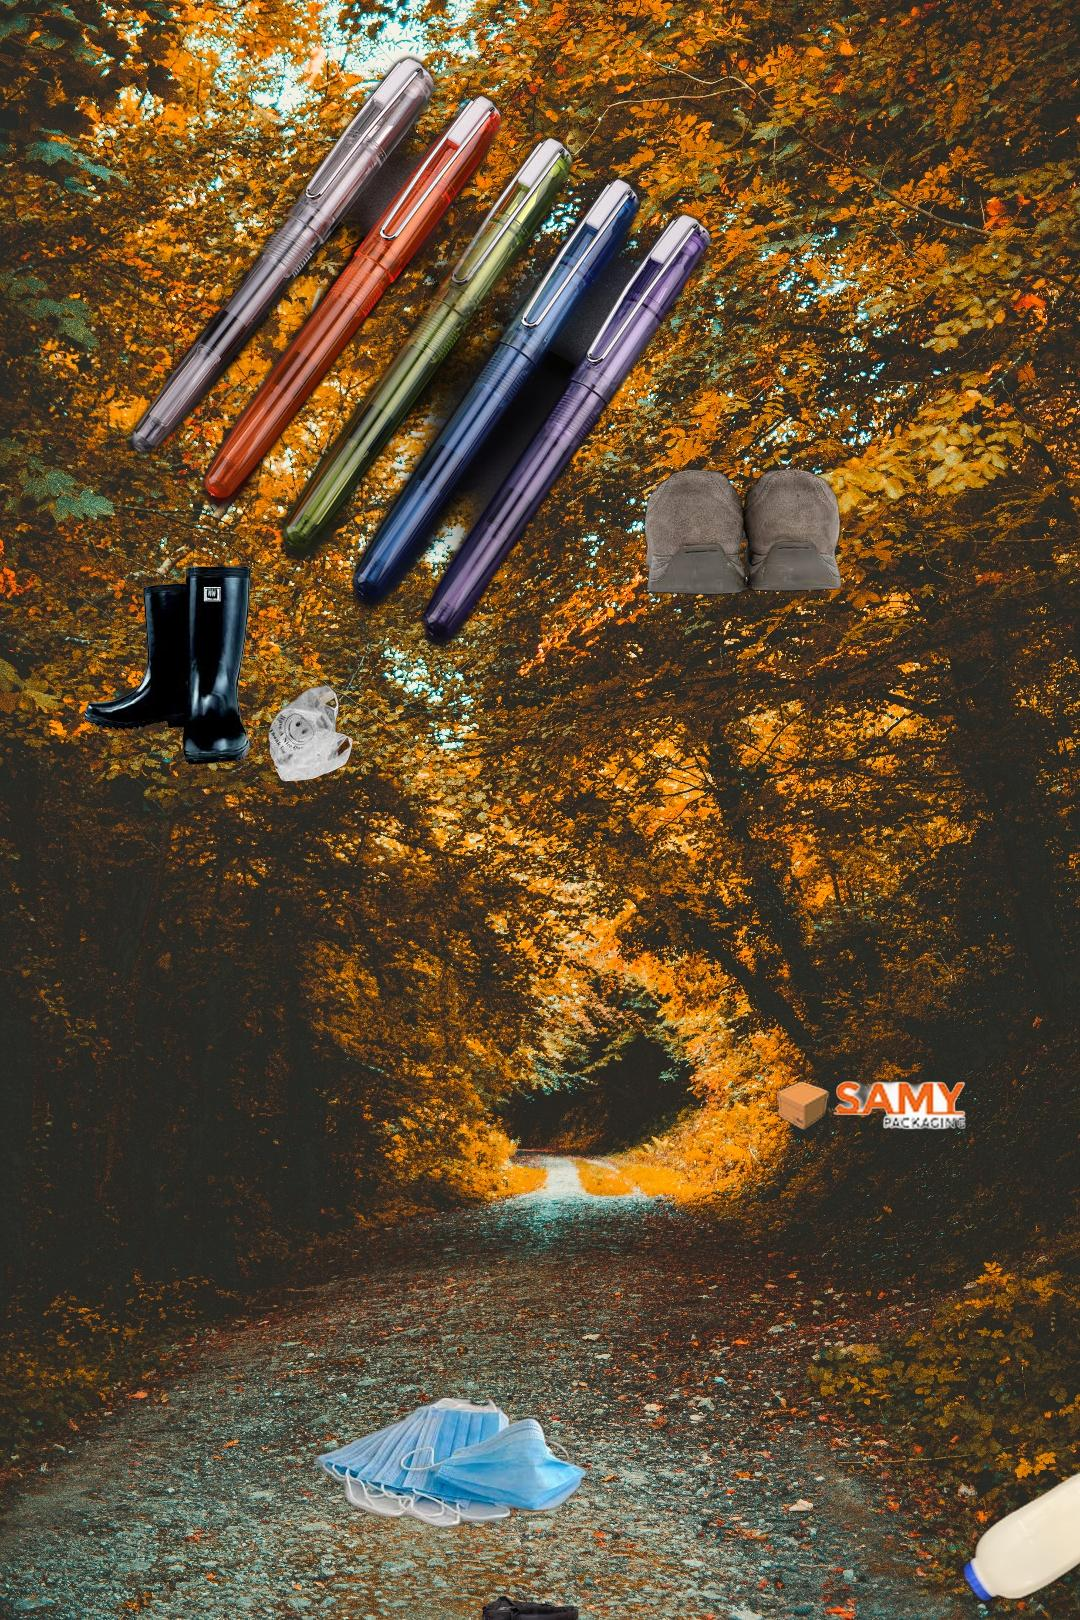penholder: (122, 51, 718, 655)
plastic-bag: (265, 682, 356, 783)
plastic-bottles: (958, 1466, 1080, 1608)
shoes: (81, 563, 253, 767), (641, 466, 844, 597), (434, 1593, 582, 1620)
trash: (307, 1395, 593, 1530)
trashbox-cardboard: (774, 1078, 969, 1133)
